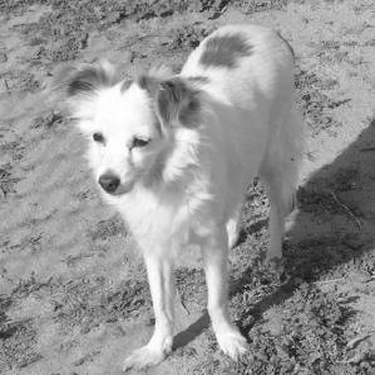dog: (46, 16, 308, 373)
